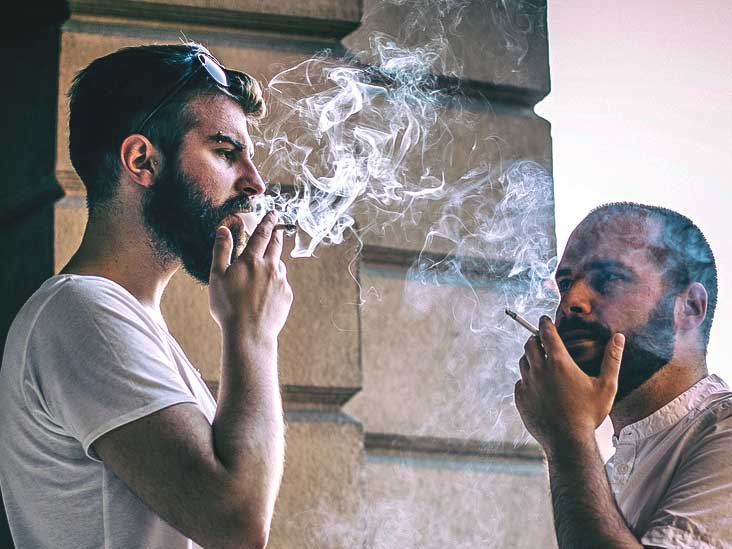cigarette: (499, 301, 543, 341), (257, 209, 300, 235)
